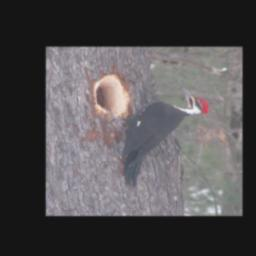Woodpecker: (102, 88, 212, 188)
